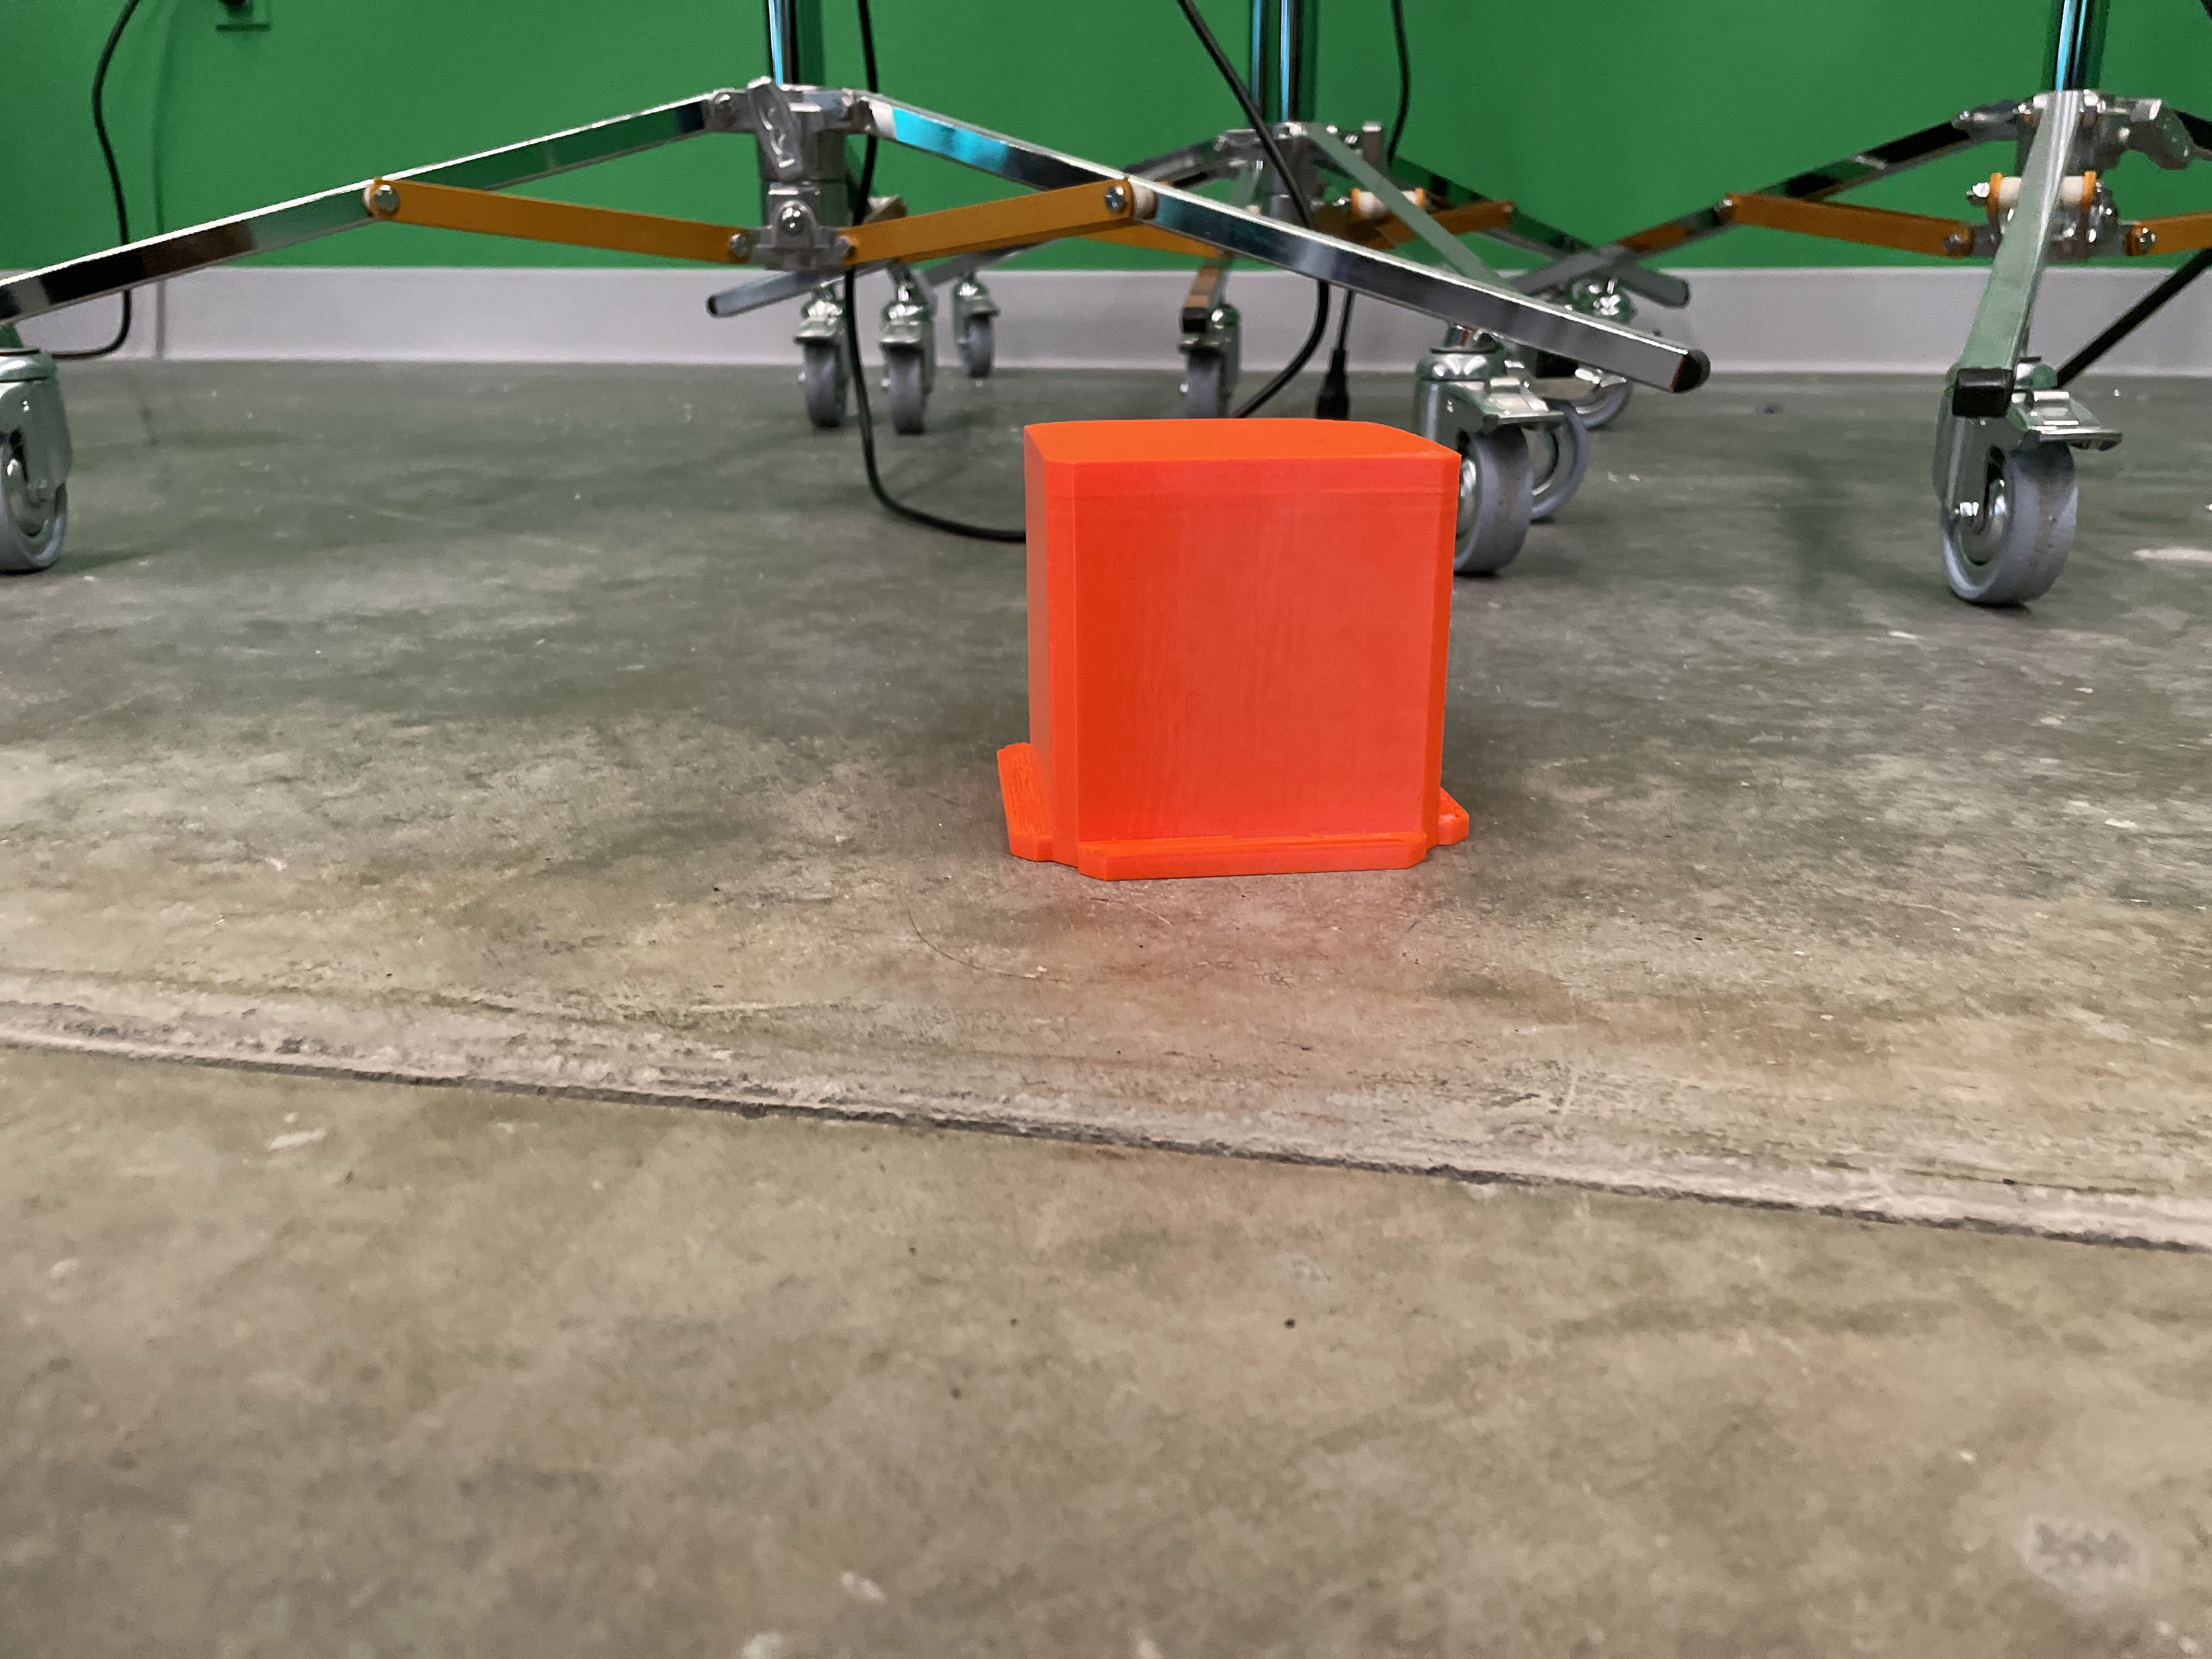payload1: (982, 397, 1501, 896)
